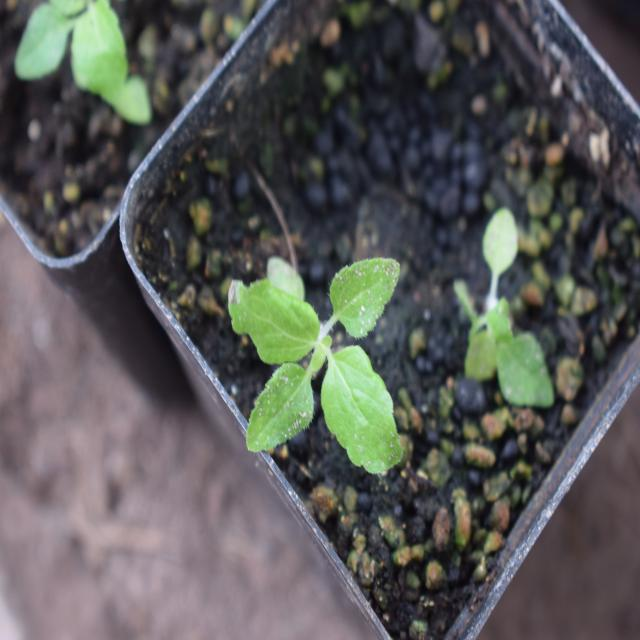billygoat_weed: (246, 259, 420, 488)
